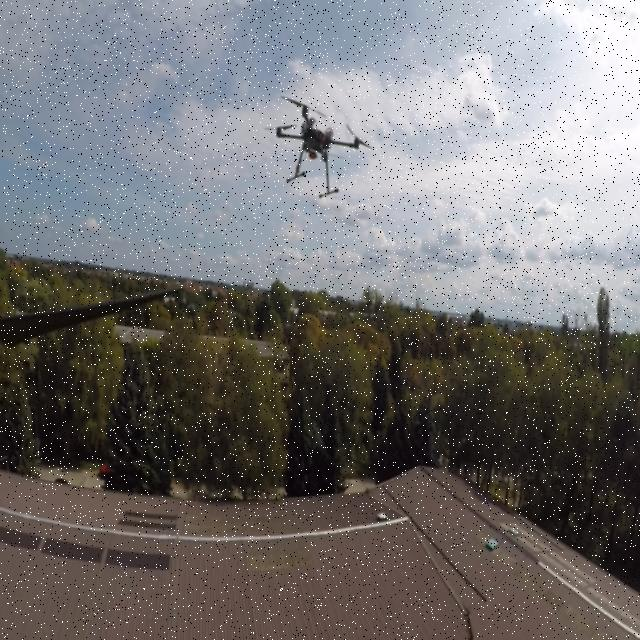UAV: (264, 94, 374, 204)
